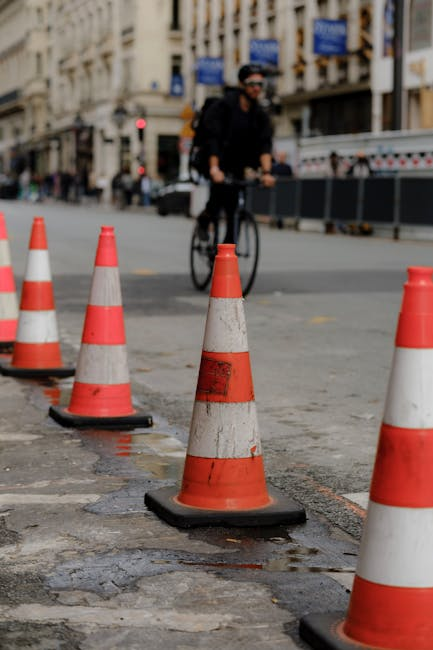traffic_cone: (298, 265, 432, 649), (144, 242, 307, 529), (48, 224, 154, 431), (1, 216, 76, 380), (0, 211, 20, 356)
